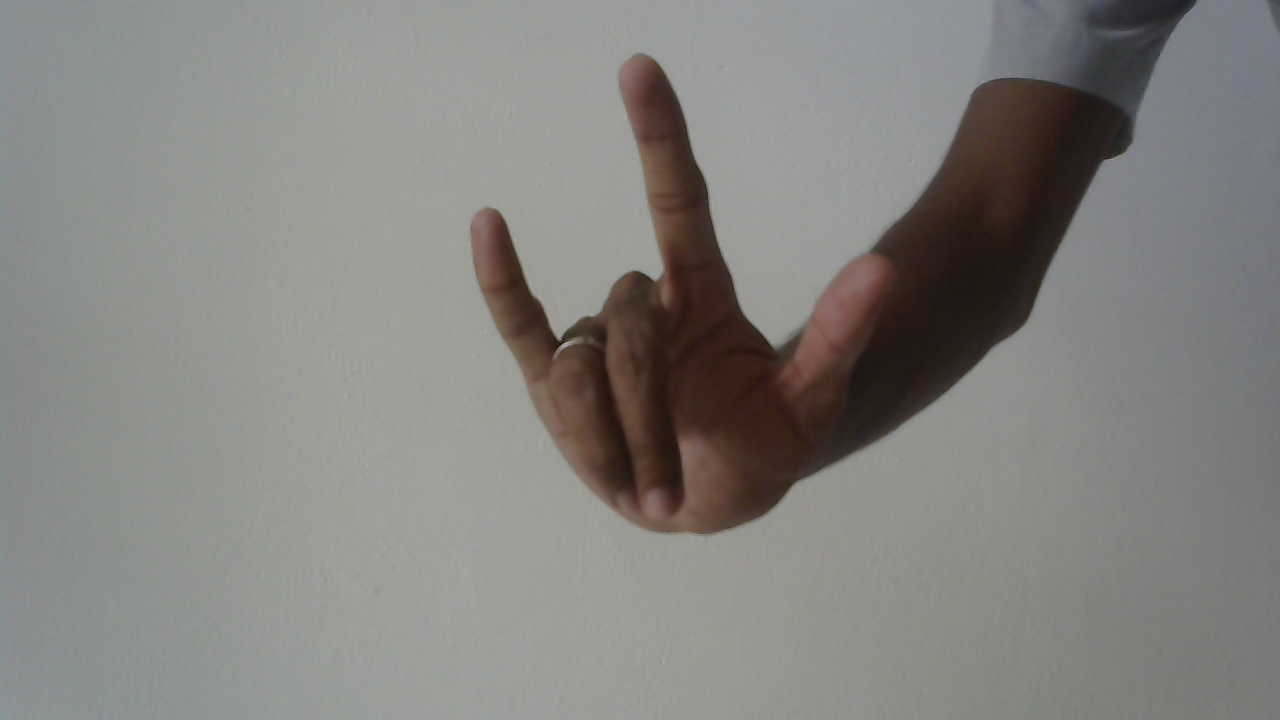iloveyou: (456, 48, 912, 550)
